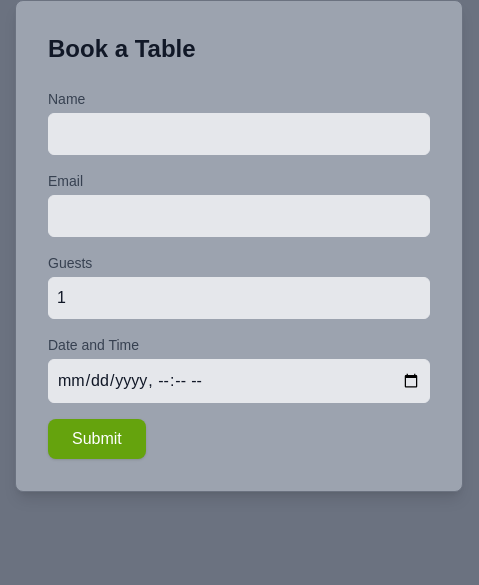
Test: BookingForm › should clear validation errors when fields are corrected
Click the button "Submit": x=97, y=439 [48,419,146,459]
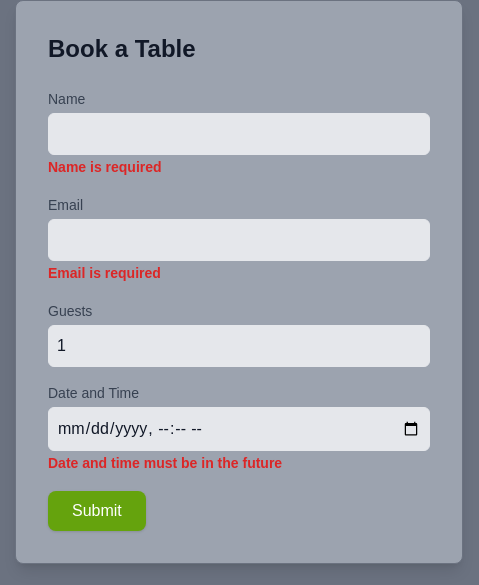
Expected: the text "Name is required" is shown, [48,159,162,175]
In the field labelled "Name": x=239, y=134 [48,113,430,155], type "John Doe"
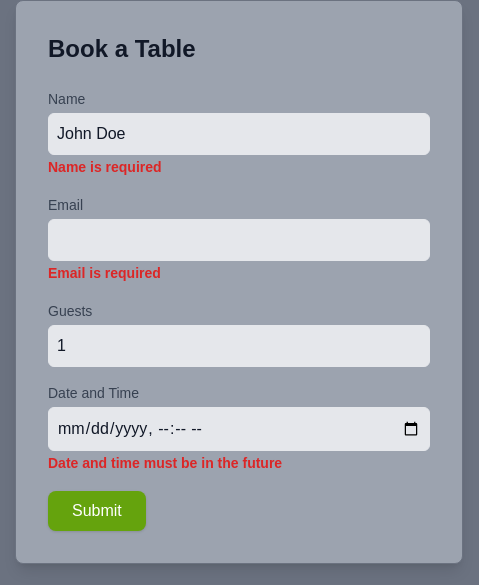
Click the button "Submit": x=97, y=511 [48,491,146,531]
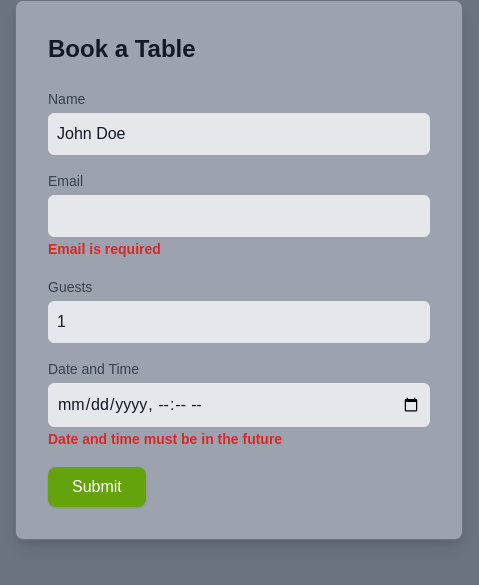
Expected: the text "Name is required" is gone
